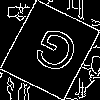G: (25, 24, 83, 84)
